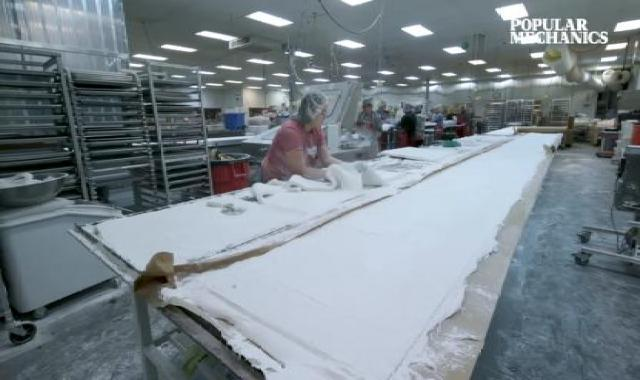hairnet: (296, 87, 339, 126)
